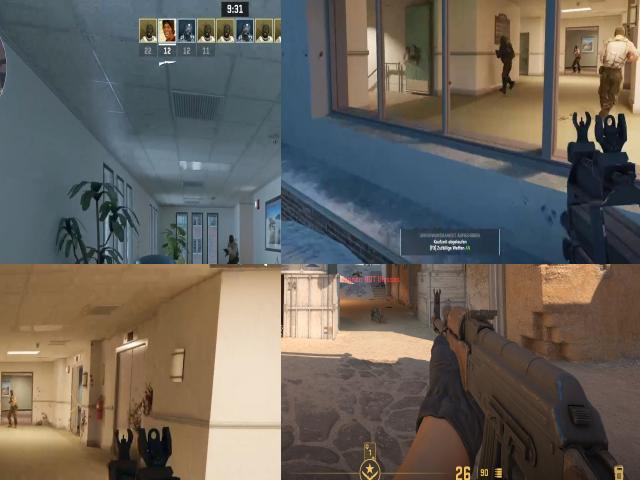CT: (498, 36, 515, 77)
CT-Head: (496, 35, 511, 49)
Dead: (372, 307, 384, 321), (353, 270, 363, 276), (379, 278, 385, 288)
T: (602, 20, 632, 100), (5, 389, 19, 422), (225, 229, 238, 264), (573, 44, 581, 64), (227, 233, 236, 247)
T-Head: (608, 23, 627, 50), (8, 388, 15, 399)
